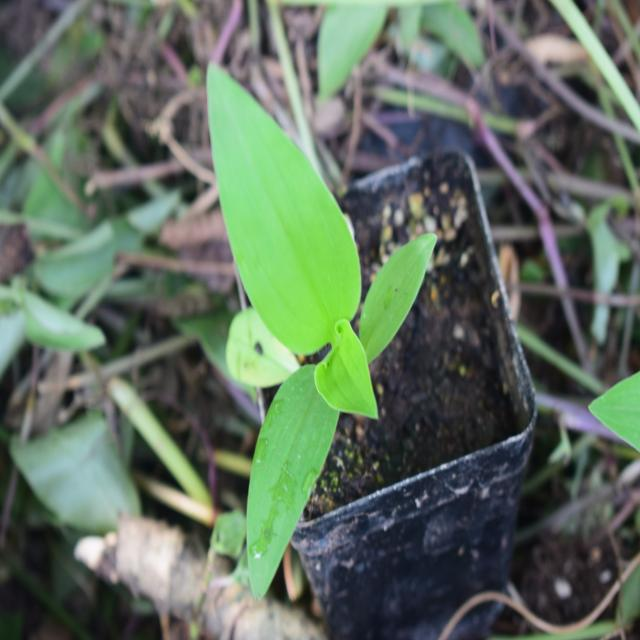Common Dayflower: (195, 67, 420, 565)
